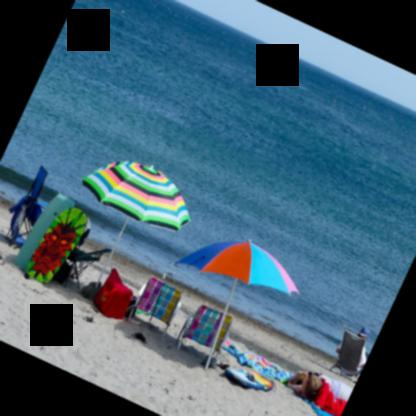handbag: (92, 268, 133, 321), (80, 281, 101, 301)
